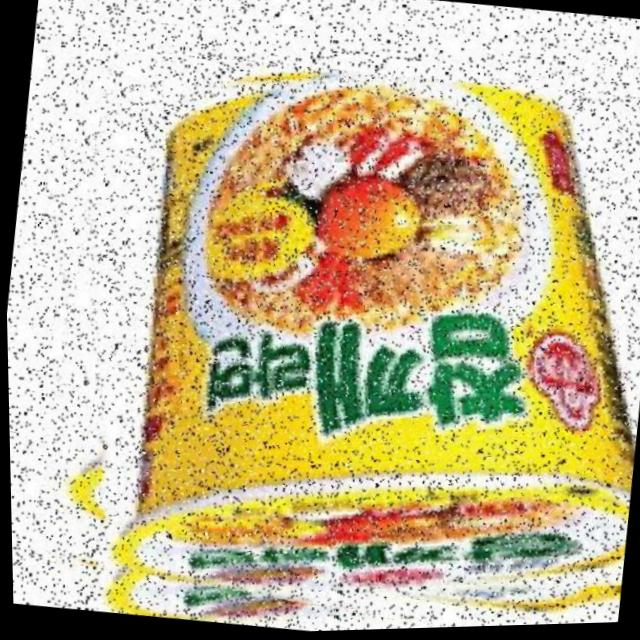Miscellaneous: (8, 31, 640, 640)
